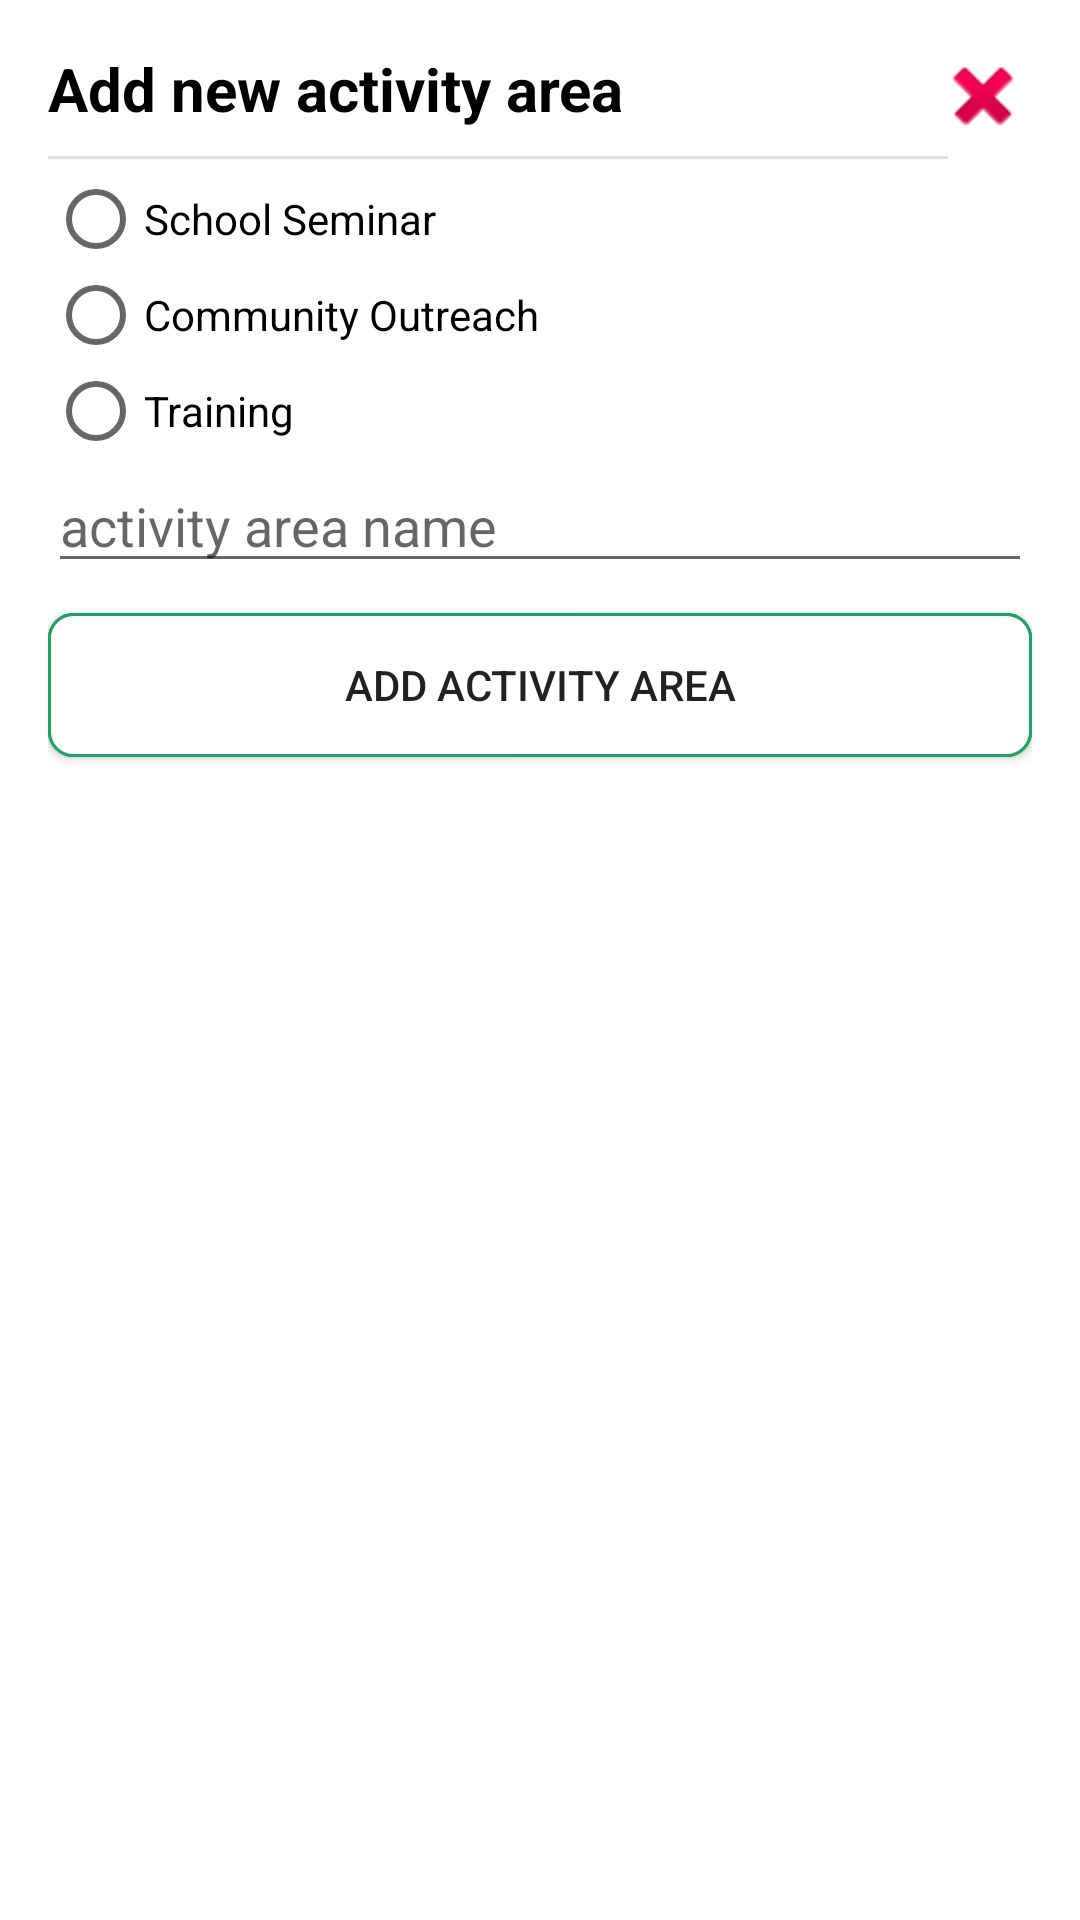

Where icons sit on this 1080 × 1920 app screen, as (x1, y1, x2, y2):
delete: (952, 67, 1014, 126)
